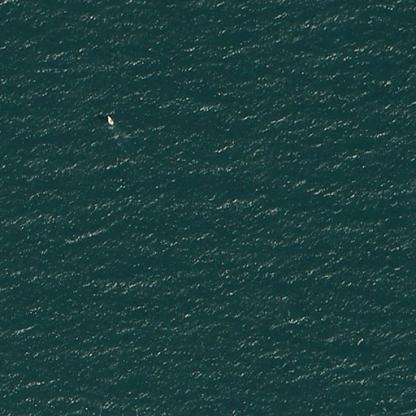ship: (104, 112, 115, 128)
